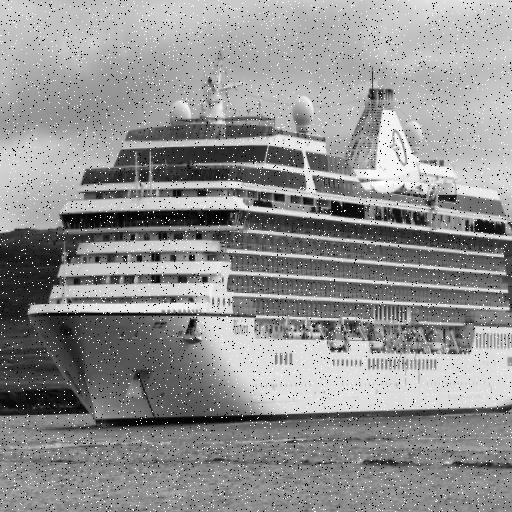cruises: (22, 41, 512, 429)
